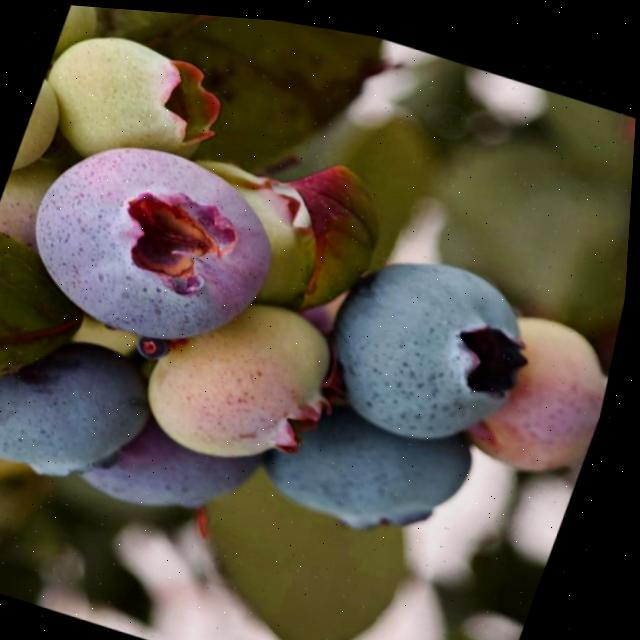RipeBlueBerry: (314, 226, 558, 461), (0, 302, 185, 499)
Semi-RipeBlueBerry: (7, 111, 315, 370)
UnripeBlueBerry: (128, 258, 357, 481)
